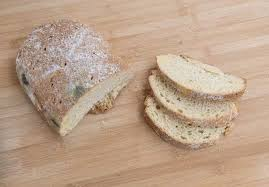mold_bread: (67, 78, 96, 100), (191, 90, 226, 104), (45, 111, 63, 133), (18, 69, 32, 90), (187, 141, 203, 151)
